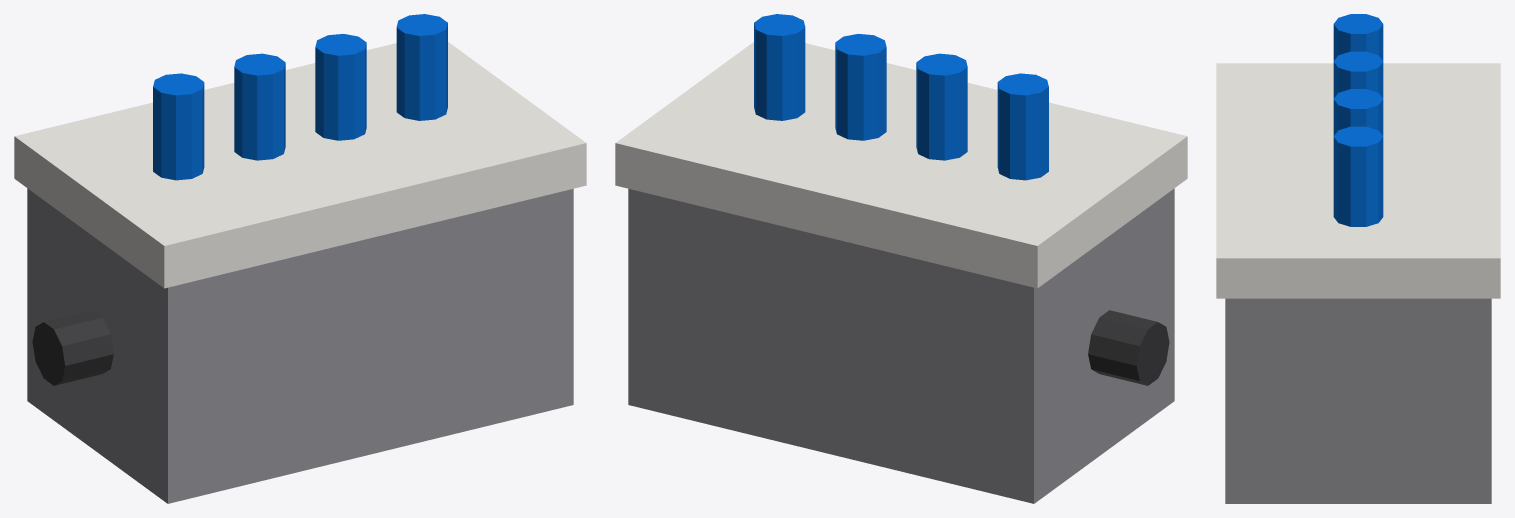
File: splitter.glb
3 views of the same model, side by side, from view 1: azimuth 30°, elevation 25°; view 2: azimuth 150°, elevation 25°; view 3: azimuth 270°, elevation 25° (orthographic). The views are drawn at different scales.
Visible parts, largest first — view 1: body, lid, port_0, port_2, port_1, port_3, input; view 2: body, lid, port_0, port_2, port_1, port_3, input; view 3: lid, body, port_3, port_2, port_0, port_1.
Part boxes in pixels (left/top/right/bottom): body: left=27, top=188, right=573, bottom=503; lid: left=14, top=42, right=586, bottom=288; port_0: left=153, top=73, right=204, bottom=180; port_2: left=315, top=34, right=366, bottom=140; port_1: left=234, top=53, right=285, bottom=160; port_3: left=396, top=14, right=447, bottom=120; input: left=32, top=310, right=113, bottom=385; body: left=628, top=188, right=1174, bottom=503; lid: left=615, top=42, right=1187, bottom=288; port_0: left=997, top=73, right=1048, bottom=180; port_2: left=835, top=34, right=886, bottom=140; port_1: left=916, top=53, right=967, bottom=160; port_3: left=754, top=14, right=805, bottom=120; input: left=1088, top=310, right=1169, bottom=385; lid: left=1216, top=63, right=1500, bottom=298; body: left=1225, top=298, right=1491, bottom=503; port_3: left=1333, top=126, right=1383, bottom=226; port_2: left=1333, top=89, right=1383, bottom=135; port_0: left=1333, top=14, right=1383, bottom=60; port_1: left=1333, top=51, right=1383, bottom=98.
Size of the model in its own units: 0.57 by 0.41 by 0.32.
